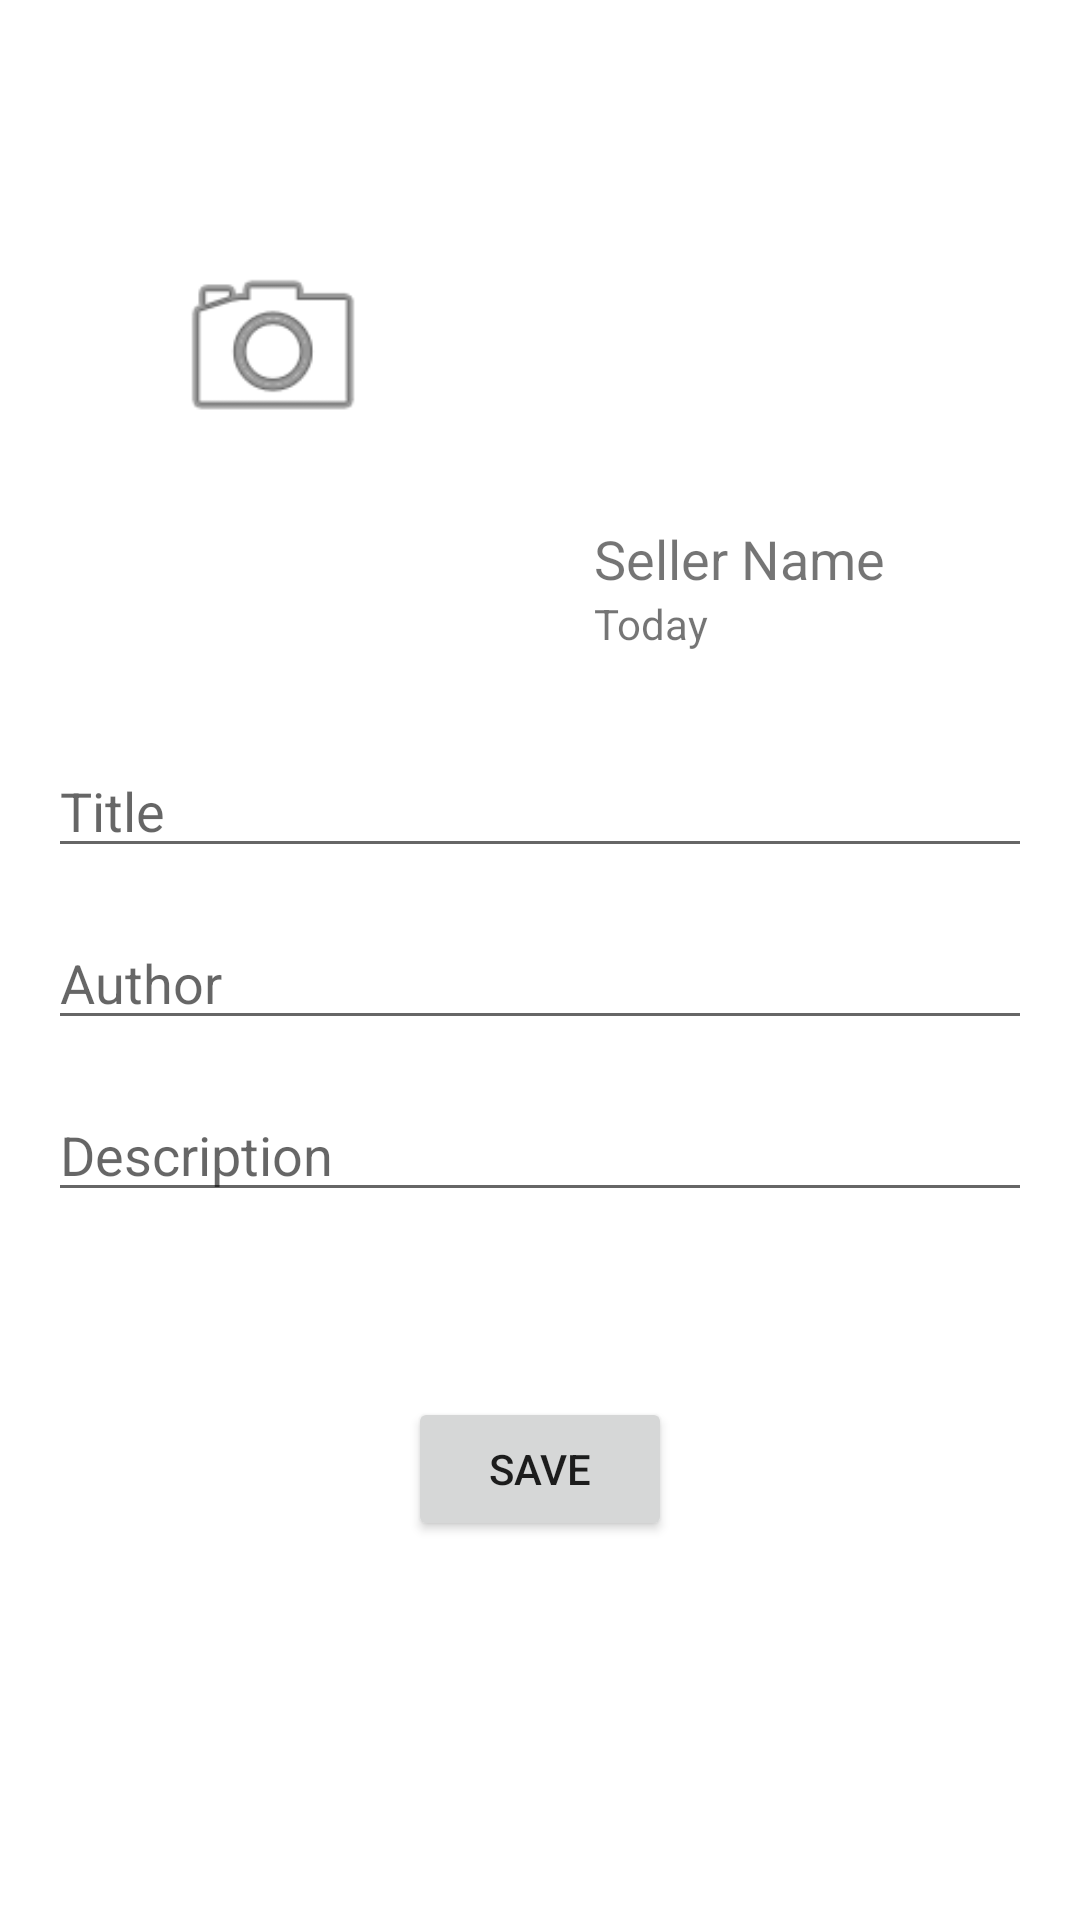

Icon click points for this 1080px×1920px phone screenshot, format (x=x, y=y):
camera: (x=273, y=345)
